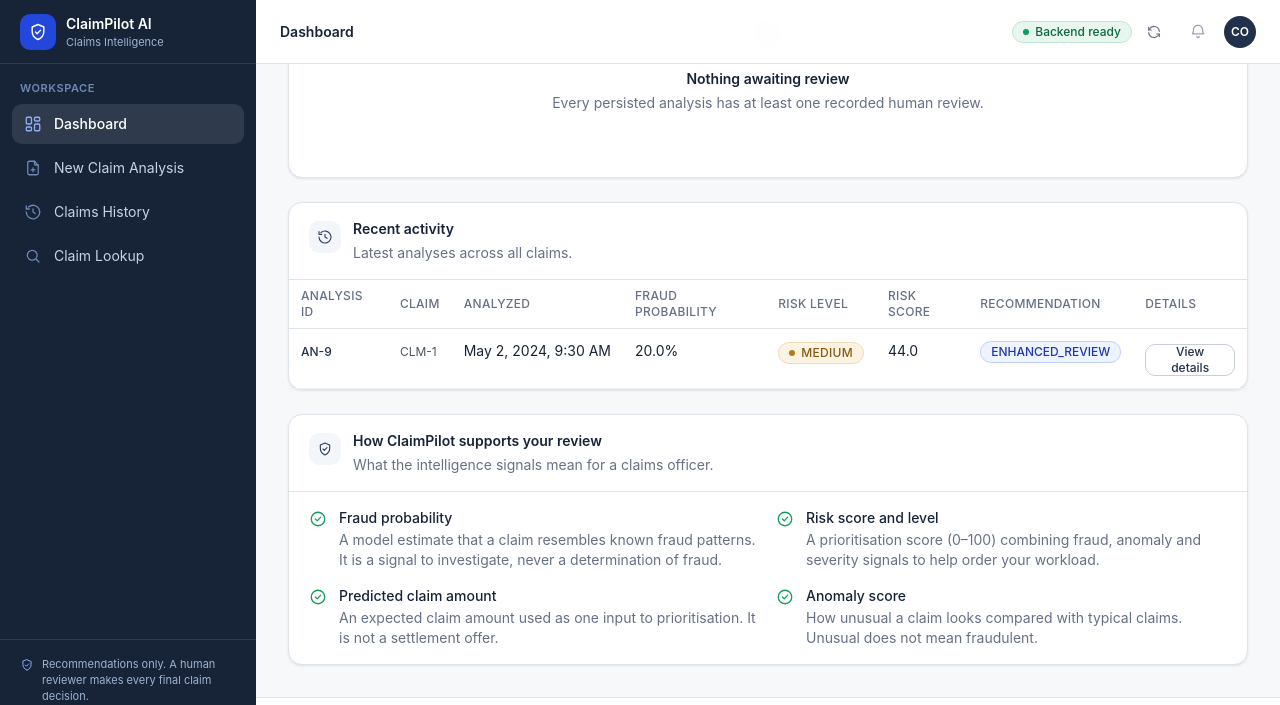
Test: App navigation › opens a saved analysis from the dashboard recent activity
(page scrolled)
Click the button with aria-label "view details for analysis AN-9" at (1190, 360), box [1145,344,1235,376]
(page scrolled)
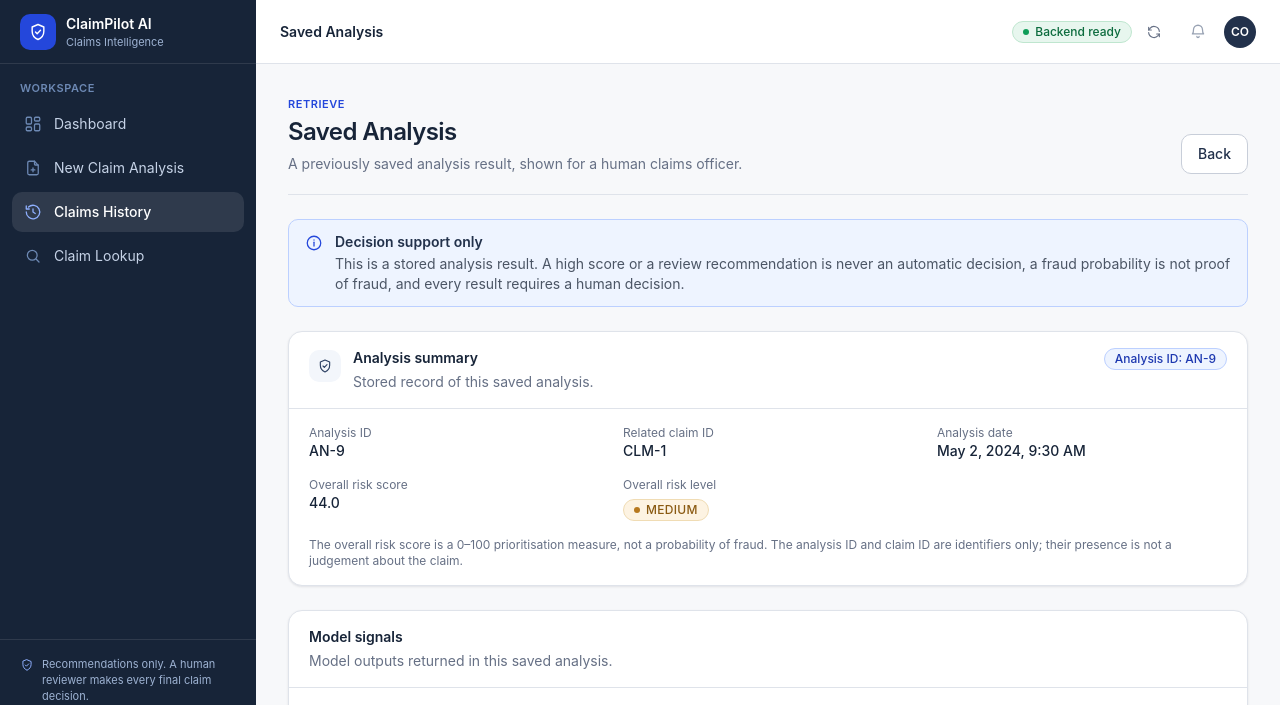
Result: the heading "Saved Analysis" is shown at [288,117,457,146]
Result: the text "Analysis ID: AN-9" is shown at [1104,348,1227,370]
